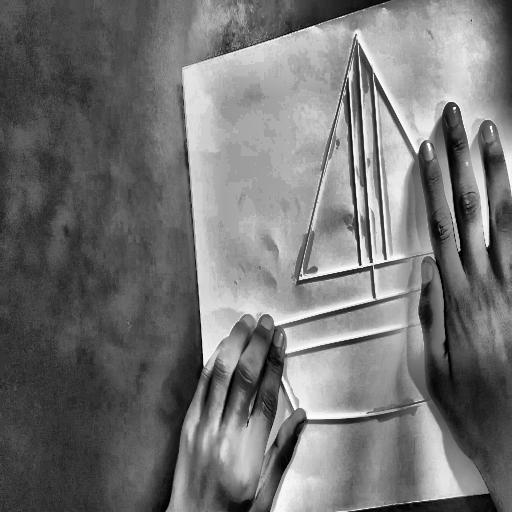boat: (233, 0, 512, 448)
